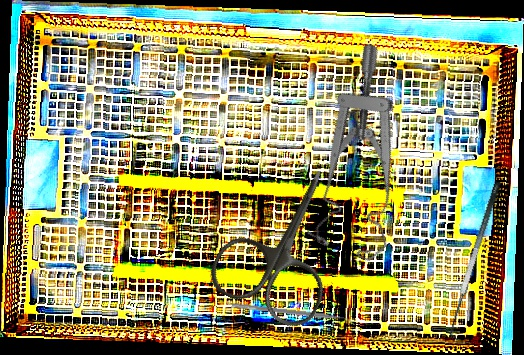Iris Scissors: (203, 146, 372, 335)
Spatula Surgical: (440, 180, 515, 342), (230, 302, 353, 326)
Speculum: (269, 41, 468, 272)
